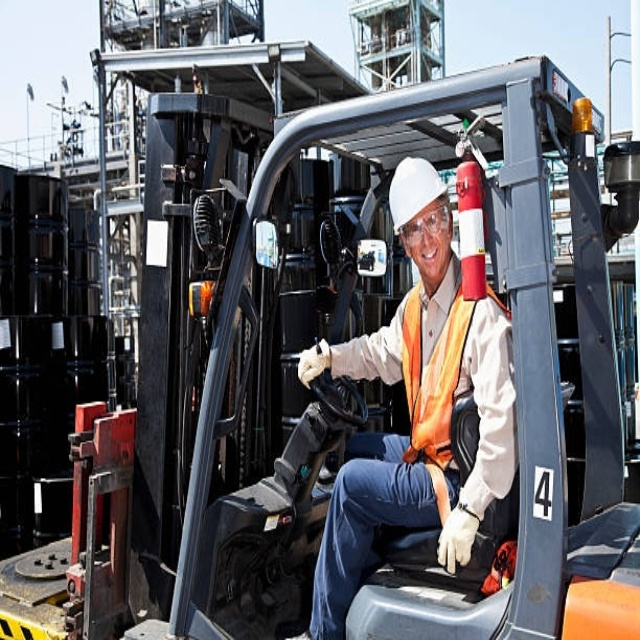Gafas: (400, 207, 449, 247)
Guantes: (436, 503, 481, 573), (297, 339, 330, 389)
Sin_mascara: (420, 247, 439, 264)
